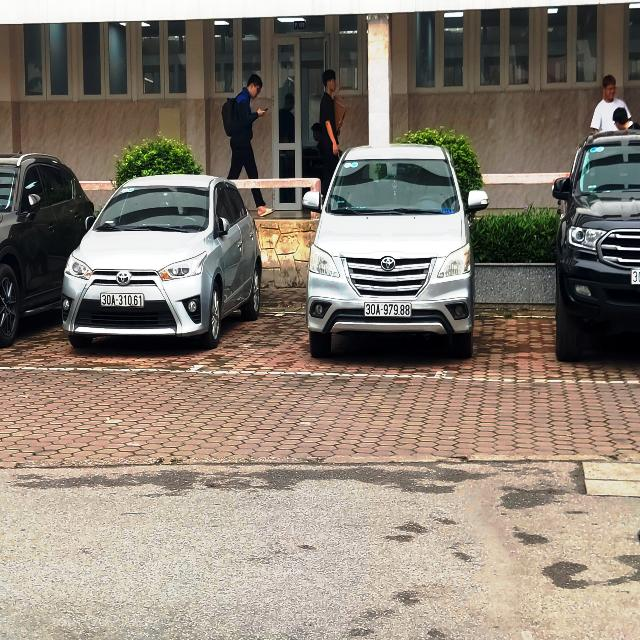license_plate: (365, 303, 412, 318), (102, 293, 145, 308)
